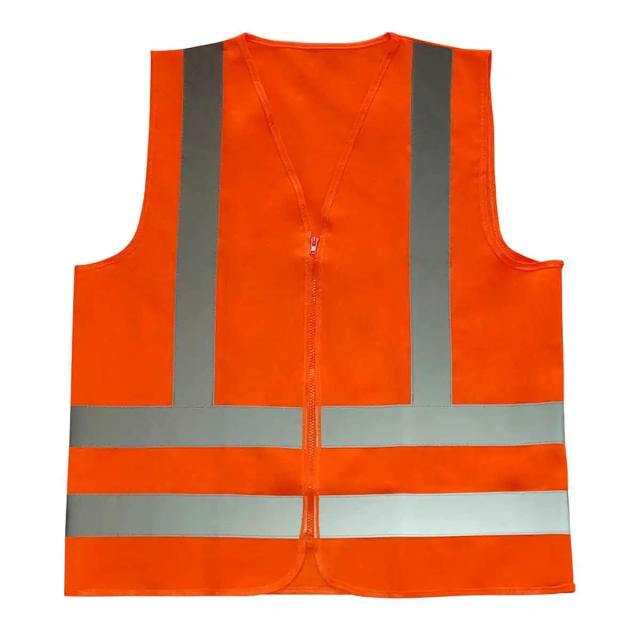COLETE: (60, 38, 583, 604)
